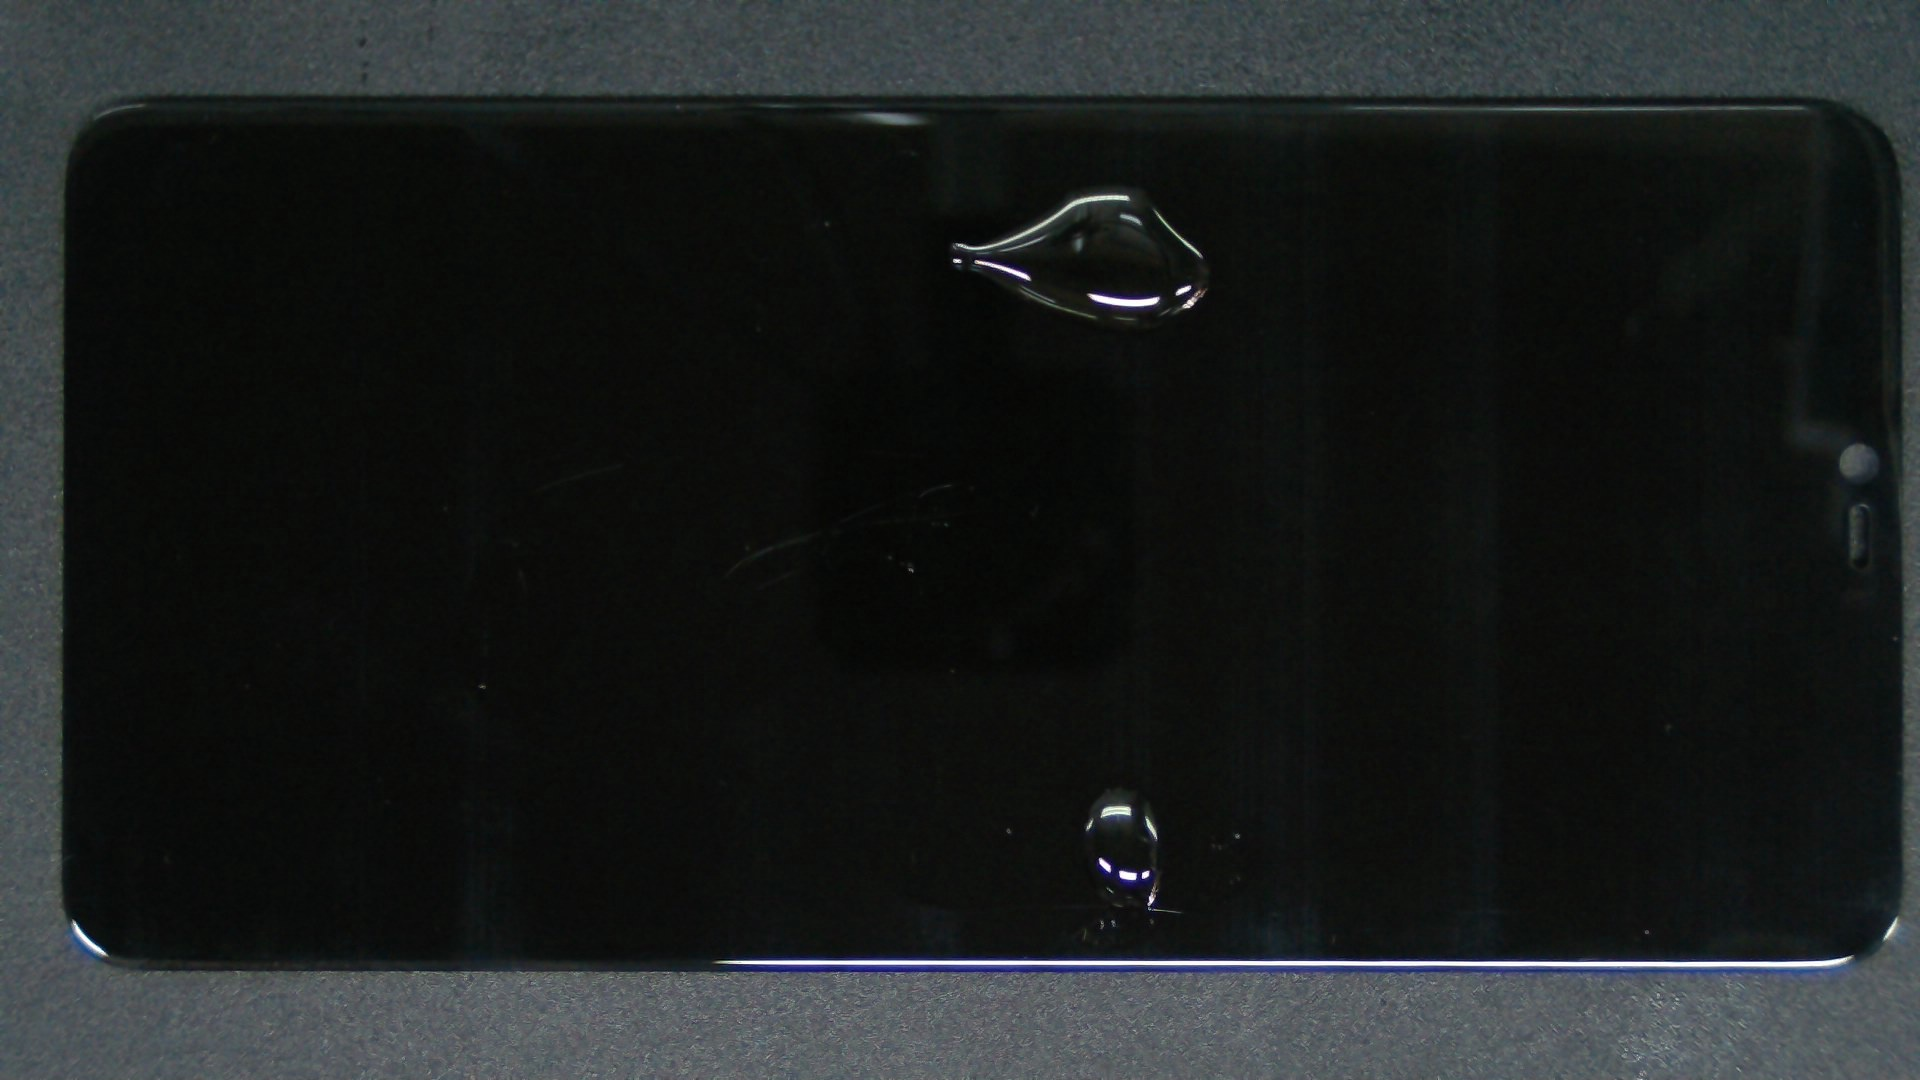oil: (559, 393, 1675, 1080), (562, 96, 1683, 290)
